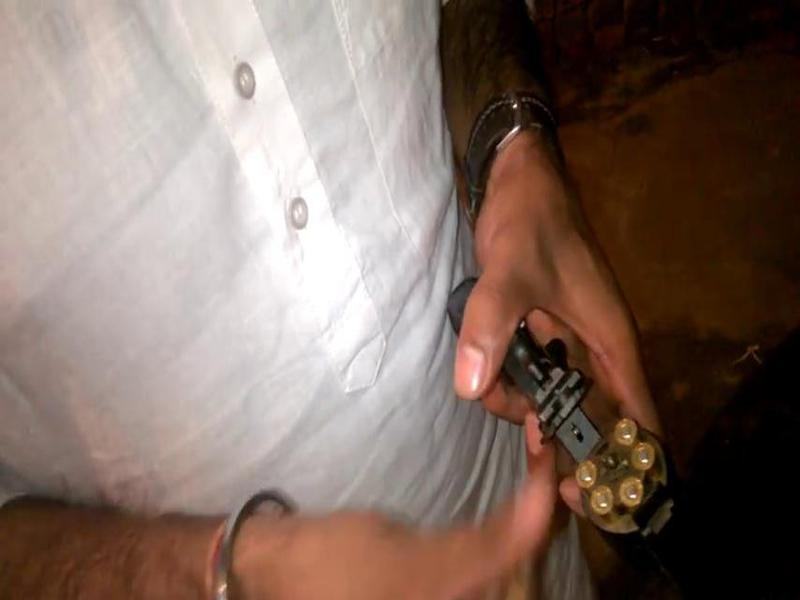Revolver: (408, 231, 741, 599)
